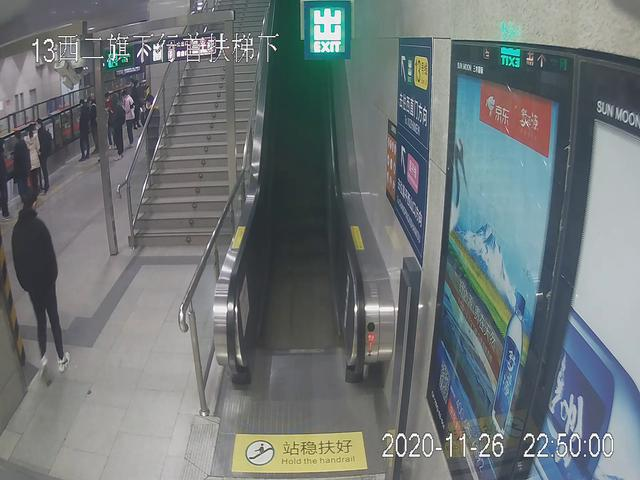person: (9, 187, 71, 371), (10, 127, 32, 206), (24, 127, 42, 198), (33, 119, 47, 197), (123, 92, 138, 146)
